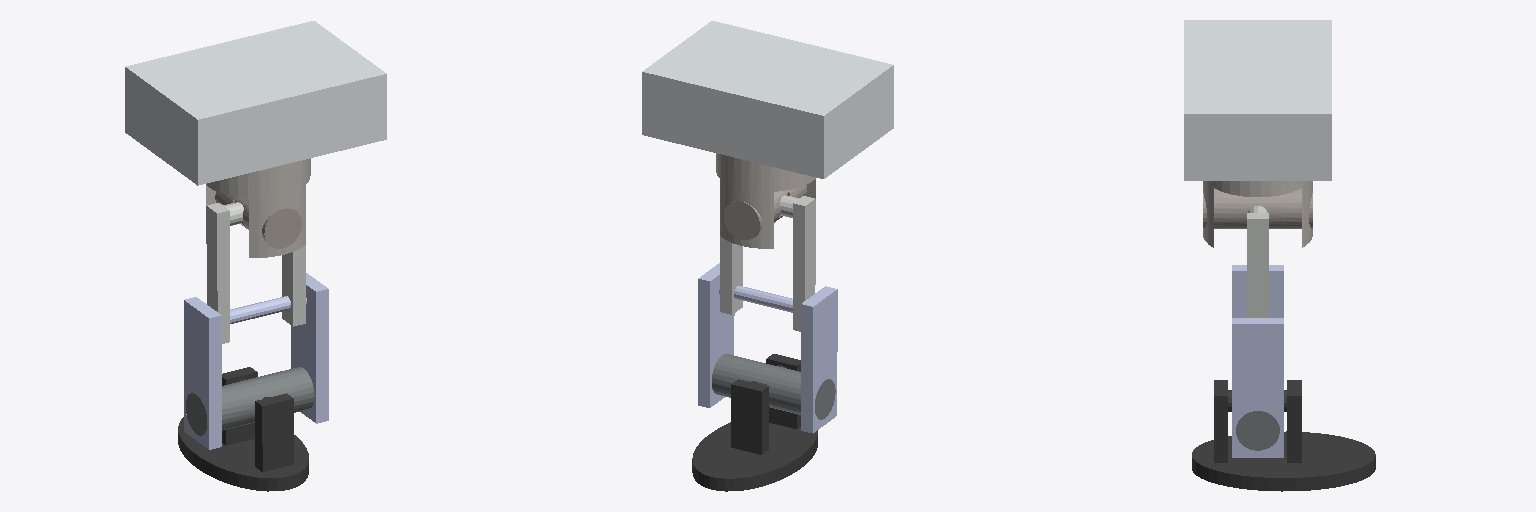
robot.urdf — simple_robot:
<?xml version="1.0" encoding="utf-8"?>
<!-- This URDF was automatically created by SolidWorks to URDF Exporter! Originally created by [author] ([email redacted]) 
     Commit Version: 1.5.1-0-g916b5db  Build Version: 1.5.7152.31018
     For more information, please see http://wiki.ros.org/sw_urdf_exporter -->
<robot
  name="simple_robot">
  <link
    name="base_link">
    <inertial>
      <origin
        xyz="-5.71508578025251E-17 1.32441320679208E-17 -0.0456826662317587"
        rpy="0 0 0" />
      <mass
        value="14.4794885972834" />
      <inertia
        ixx="0.0648800077797453"
        ixy="-3.03569022552744E-34"
        ixz="-6.71392917276313E-18"
        iyy="0.135630007779745"
        iyz="2.77410437036424E-18"
        izz="0.176917311679859" />
    </inertial>
    <visual>
      <origin
        xyz="0 0 0"
        rpy="0 0 0" />
      <geometry>
        <mesh
          filename="package://simple_robot/meshes/base_link.STL" />
      </geometry>
      <material
        name="">
        <color
          rgba="0.898039215686275 0.917647058823529 0.929411764705882 1" />
      </material>
    </visual>
    <collision>
      <origin
        xyz="0 0 0"
        rpy="0 0 0" />
      <geometry>
        <mesh
          filename="package://simple_robot/meshes/base_link.STL" />
      </geometry>
    </collision>
  </link>
  <link
    name="hip_yaw">
    <inertial>
      <origin
        xyz="-3.2222E-08 -1.4956E-08 -0.059211"
        rpy="0 0 0" />
      <mass
        value="15.656" />
      <inertia
        ixx="0.043284"
        ixy="4.3317E-08"
        ixz="-6.9253E-08"
        iyy="0.045826"
        iyz="-2.5036E-08"
        izz="0.045465" />
    </inertial>
    <visual>
      <origin
        xyz="0 0 0"
        rpy="0 0 0" />
      <geometry>
        <mesh
          filename="package://simple_robot/meshes/hip_yaw.STL" />
      </geometry>
      <material
        name="">
        <color
          rgba="0.77647 0.75686 0.73725 1" />
      </material>
    </visual>
    <collision>
      <origin
        xyz="0 0 0"
        rpy="0 0 0" />
      <geometry>
        <mesh
          filename="package://simple_robot/meshes/hip_yaw.STL" />
      </geometry>
    </collision>
  </link>
  <joint
    name="base_hip_yaw_joint"
    type="continuous">
    <origin
      xyz="0 0 -0.05"
      rpy="0 0 1.5707963267949" />
    <parent
      link="base_link" />
    <child
      link="hip_yaw" />
    <axis
      xyz="0 0 1" />
  </joint>
  <link
    name="hip_roll">
    <inertial>
      <origin
        xyz="-1.64860302624167E-07 -3.30072248622815E-05 1.0604201905462E-08"
        rpy="0 0 0" />
      <mass
        value="1.7790652518713" />
      <inertia
        ixx="0.000821464539248646"
        ixy="-1.25242624365787E-08"
        ixz="4.71021102020531E-10"
        iyy="0.00411963430986972"
        iyz="-1.16079001902219E-10"
        izz="0.00407488020426554" />
    </inertial>
    <visual>
      <origin
        xyz="0 0 0"
        rpy="0 0 0" />
      <geometry>
        <mesh
          filename="package://simple_robot/meshes/hip_roll.STL" />
      </geometry>
      <material
        name="">
        <color
          rgba="0.686274509803922 0.658823529411765 0.63921568627451 1" />
      </material>
    </visual>
    <collision>
      <origin
        xyz="0 0 0"
        rpy="0 0 0" />
      <geometry>
        <mesh
          filename="package://simple_robot/meshes/hip_roll.STL" />
      </geometry>
    </collision>
  </link>
  <joint
    name="hip_yaw_roll_joint"
    type="continuous">
    <origin
      xyz="0 0 -0.16"
      rpy="-0.00228729127535642 0 0" />
    <parent
      link="hip_yaw" />
    <child
      link="hip_roll" />
    <axis
      xyz="1 0 0" />
  </joint>
  <link
    name="hip_pitch">
    <inertial>
      <origin
        xyz="-6.53134388726974E-18 1.11727033874631E-16 -0.0618953633604963"
        rpy="0 0 0" />
      <mass
        value="1.99740040941246" />
      <inertia
        ixx="0.0132585999375464"
        ixy="-6.98250524258054E-19"
        ixz="-1.54925319215135E-20"
        iyy="0.00747257956597158"
        iyz="3.25006541861475E-18"
        izz="0.00607629008532851" />
    </inertial>
    <visual>
      <origin
        xyz="0 0 0"
        rpy="0 0 0" />
      <geometry>
        <mesh
          filename="package://simple_robot/meshes/hip_pitch.STL" />
      </geometry>
      <material
        name="">
        <color
          rgba="0.831372549019608 0.83921568627451 0.831372549019608 1" />
      </material>
    </visual>
    <collision>
      <origin
        xyz="0 0 0"
        rpy="0 0 0" />
      <geometry>
        <mesh
          filename="package://simple_robot/meshes/hip_pitch.STL" />
      </geometry>
    </collision>
  </link>
  <joint
    name="hip_roll_pitch_joint"
    type="continuous">
    <origin
      xyz="0 0 0"
      rpy="0 0 0" />
    <parent
      link="hip_roll" />
    <child
      link="hip_pitch" />
    <axis
      xyz="0 1 0" />
  </joint>
  <link
    name="knee">
    <inertial>
      <origin
        xyz="3.03876249032814E-17 -6.72747448027256E-17 0.0541101677070869"
        rpy="0 0 0" />
      <mass
        value="0.494026554274615" />
      <inertia
        ixx="0.00481685931138169"
        ixy="-2.77514771482045E-19"
        ixz="-2.03816288616372E-19"
        iyy="0.00168913137513351"
        iyz="-2.98960278733405E-18"
        izz="0.00353652366308356" />
    </inertial>
    <visual>
      <origin
        xyz="0 0 0"
        rpy="0 0 0" />
      <geometry>
        <mesh
          filename="package://simple_robot/meshes/knee.STL" />
      </geometry>
      <material
        name="">
        <color
          rgba="0.792156862745098 0.819607843137255 0.933333333333333 1" />
      </material>
    </visual>
    <collision>
      <origin
        xyz="0 0 0"
        rpy="0 0 0" />
      <geometry>
        <mesh
          filename="package://simple_robot/meshes/knee.STL" />
      </geometry>
    </collision>
  </link>
  <joint
    name="hip_knee_joint"
    type="continuous">
    <origin
      xyz="0 0 -0.155"
      rpy="3.14159265358979 0 3.14159265358979" />
    <parent
      link="hip_pitch" />
    <child
      link="knee" />
    <axis
      xyz="0 1 0" />
  </joint>
  <link
    name="ankle_pitch">
    <inertial>
      <origin
        xyz="-6.93926311959122E-05 -2.24088141577644E-07 -4.39272968000282E-09"
        rpy="0 0 0" />
      <mass
        value="1.15271055698668" />
      <inertia
        ixx="0.00403557796158524"
        ixy="-1.06543249157933E-08"
        ixz="2.86111863975445E-10"
        iyy="0.000528725603234266"
        iyz="-5.22961623656385E-10"
        izz="0.00401232428959911" />
    </inertial>
    <visual>
      <origin
        xyz="0 0 0"
        rpy="0 0 0" />
      <geometry>
        <mesh
          filename="package://simple_robot/meshes/ankle_pitch.STL" />
      </geometry>
      <material
        name="">
        <color
          rgba="0.529411764705882 0.549019607843137 0.549019607843137 1" />
      </material>
    </visual>
    <collision>
      <origin
        xyz="0 0 0"
        rpy="0 0 0" />
      <geometry>
        <mesh
          filename="package://simple_robot/meshes/ankle_pitch.STL" />
      </geometry>
    </collision>
  </link>
  <joint
    name="knee_ankle_pitch_joint"
    type="continuous">
    <origin
      xyz="0 0 0.135"
      rpy="3.14159265358979 -0.000733124532411505 -3.14159265358979" />
    <parent
      link="knee" />
    <child
      link="ankle_pitch" />
    <axis
      xyz="0 1 0" />
  </joint>
  <link
    name="ankle_roll">
    <inertial>
      <origin
        xyz="0.0243791696254881 4.41714151976124E-06 -0.06979194851214"
        rpy="0 0 0" />
      <mass
        value="1.05410542174533" />
      <inertia
        ixx="0.00236241260201265"
        ixy="-5.28348935555054E-08"
        ixz="0.000519285519729944"
        iyy="0.00508508918210817"
        iyz="5.51729338527138E-08"
        izz="0.00489919219357605" />
    </inertial>
    <visual>
      <origin
        xyz="0 0 0"
        rpy="0 0 0" />
      <geometry>
        <mesh
          filename="package://simple_robot/meshes/ankle_roll.STL" />
      </geometry>
      <material
        name="">
        <color
          rgba="0.298039215686275 0.298039215686275 0.298039215686275 1" />
      </material>
    </visual>
    <collision>
      <origin
        xyz="0 0 0"
        rpy="0 0 0" />
      <geometry>
        <mesh
          filename="package://simple_robot/meshes/ankle_roll.STL" />
      </geometry>
    </collision>
  </link>
  <joint
    name="ankle_pitch_roll_joint"
    type="continuous">
    <origin
      xyz="0 0 0"
      rpy="0.00240191007762515 0 0" />
    <parent
      link="ankle_pitch" />
    <child
      link="ankle_roll" />
    <axis
      xyz="1 0 0" />
  </joint>
</robot>

--- Facts derived from the render (not from the file) ---
3 views of the same robot in one strip: view 1: azimuth 30°, elevation 25°; view 2: azimuth 150°, elevation 25°; view 3: azimuth 270°, elevation 25° (orthographic).
Robot: simple_robot — 7 links, 6 joints (6 continuous); root link base_link; default pose: all joints at 0.
Links seen in each view (by area): view 1: base_link, knee, ankle_roll, hip_yaw, hip_pitch, ankle_pitch, hip_roll; view 2: base_link, ankle_roll, knee, hip_pitch, hip_yaw, ankle_pitch, hip_roll; view 3: base_link, ankle_roll, knee, hip_roll, hip_pitch, hip_yaw, ankle_pitch.
Boxes of the visible links, <box> form: base_link: <box>125,21,386,185</box>; knee: <box>184,273,328,449</box>; ankle_roll: <box>178,367,308,491</box>; hip_yaw: <box>206,158,310,257</box>; hip_pitch: <box>206,202,305,343</box>; ankle_pitch: <box>186,367,314,435</box>; hip_roll: <box>215,191,301,248</box>; base_link: <box>642,21,893,178</box>; ankle_roll: <box>692,354,817,491</box>; knee: <box>698,263,837,433</box>; hip_pitch: <box>720,195,815,331</box>; hip_yaw: <box>716,153,815,248</box>; ankle_pitch: <box>712,354,835,419</box>; hip_roll: <box>724,185,806,239</box>; base_link: <box>1184,20,1331,180</box>; ankle_roll: <box>1192,380,1375,491</box>; knee: <box>1232,265,1283,457</box>; hip_roll: <box>1203,188,1312,228</box>; hip_pitch: <box>1247,206,1268,317</box>; hip_yaw: <box>1203,181,1312,247</box>; ankle_pitch: <box>1236,411,1279,450</box>.
Bounding box of the posed robot: 0.3 × 0.2598 × 0.6001 m (x, y, z).
Meshes: 7 distinct files referenced, 7 mesh visuals loaded (7 binary STL).